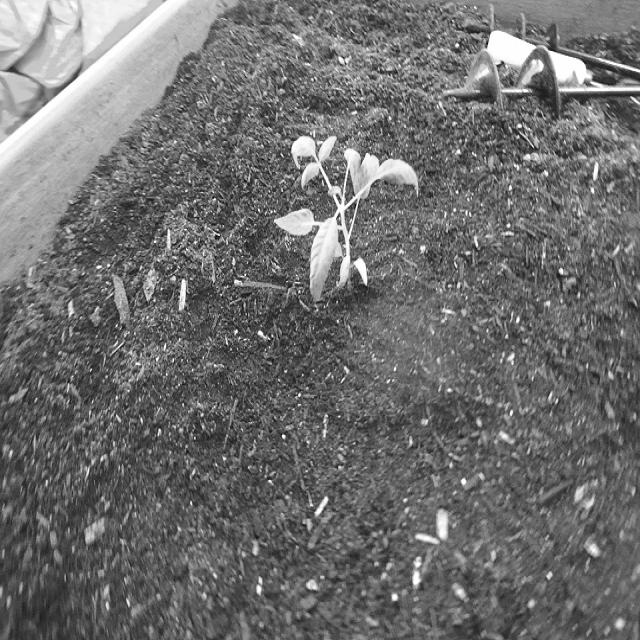Healthy: (266, 123, 427, 321)
